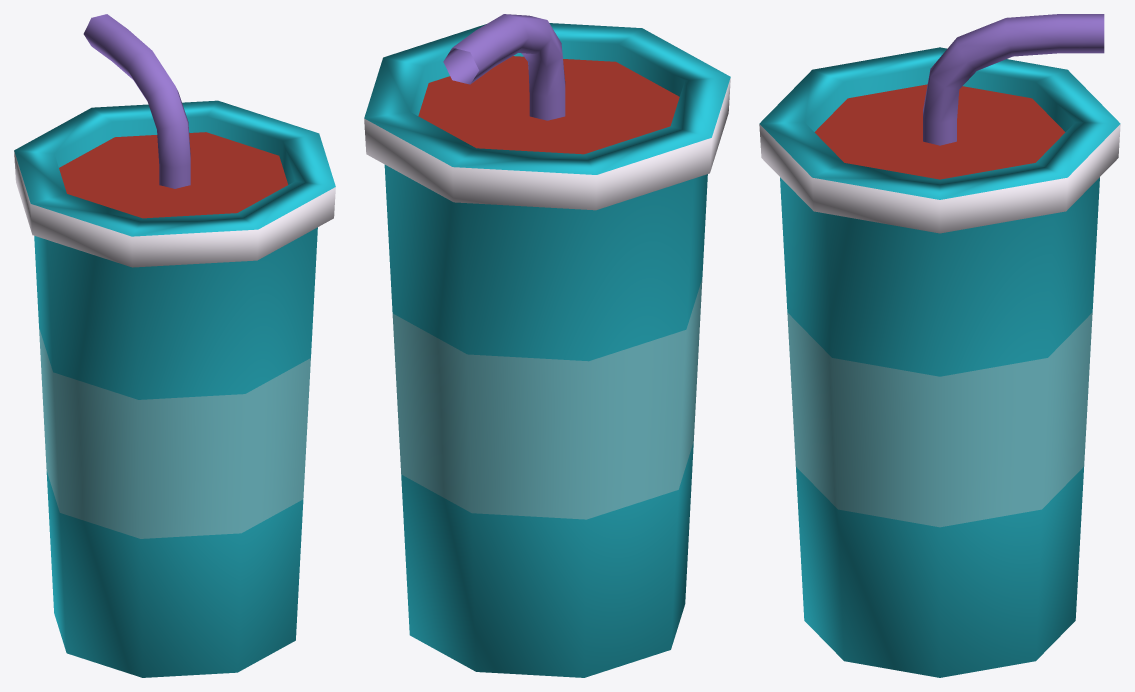
File: Drink2.fbx
The picture shows the model from 3 angles, left to right: view 1: azimuth 30°, elevation 25°; view 2: azimuth 150°, elevation 25°; view 3: azimuth 270°, elevation 25°; orthographic projection. The views are drawn at different scales.
Parts seen in each view (by area): view 1: Drink2; view 2: Drink2; view 3: Drink2.
Part boxes in pixels (bbox=[...]): Drink2: bbox=[14, 14, 335, 677]; Drink2: bbox=[364, 14, 730, 677]; Drink2: bbox=[759, 14, 1120, 677].
Size of the model in its own units: 25.35 by 46.65 by 25.35.
